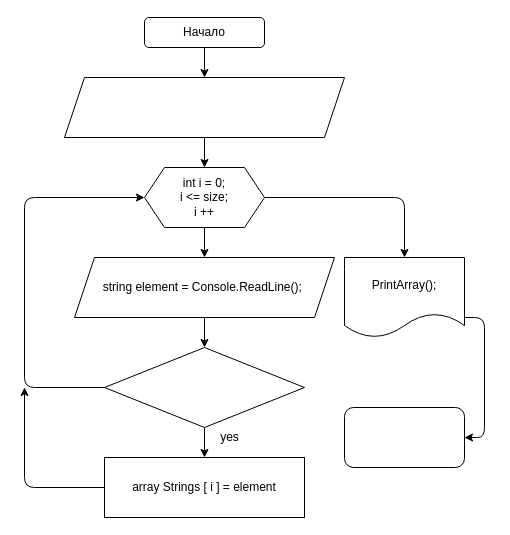
This 510x535 diagram has some shape labels left out. Each missing label, with the box of its shape:
element.Lendth <= 3: (104, 346, 304, 428)
int len = 3; int size; string [ ] array Strings = new string [ size ];: (64, 76, 344, 138)
Конец: (344, 406, 464, 468)
